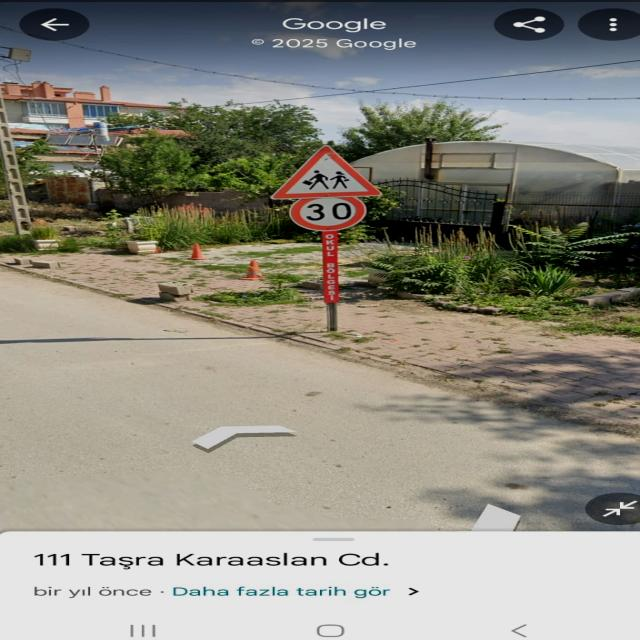okul_gecidi: (271, 144, 386, 199)
